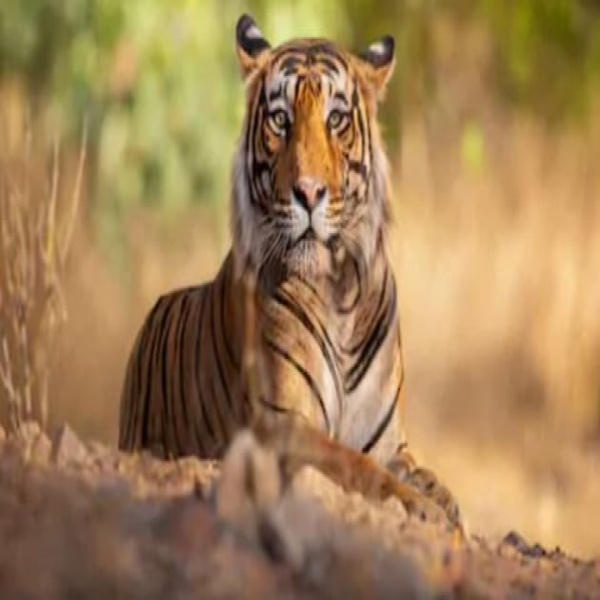Tiger: (113, 9, 464, 533)
